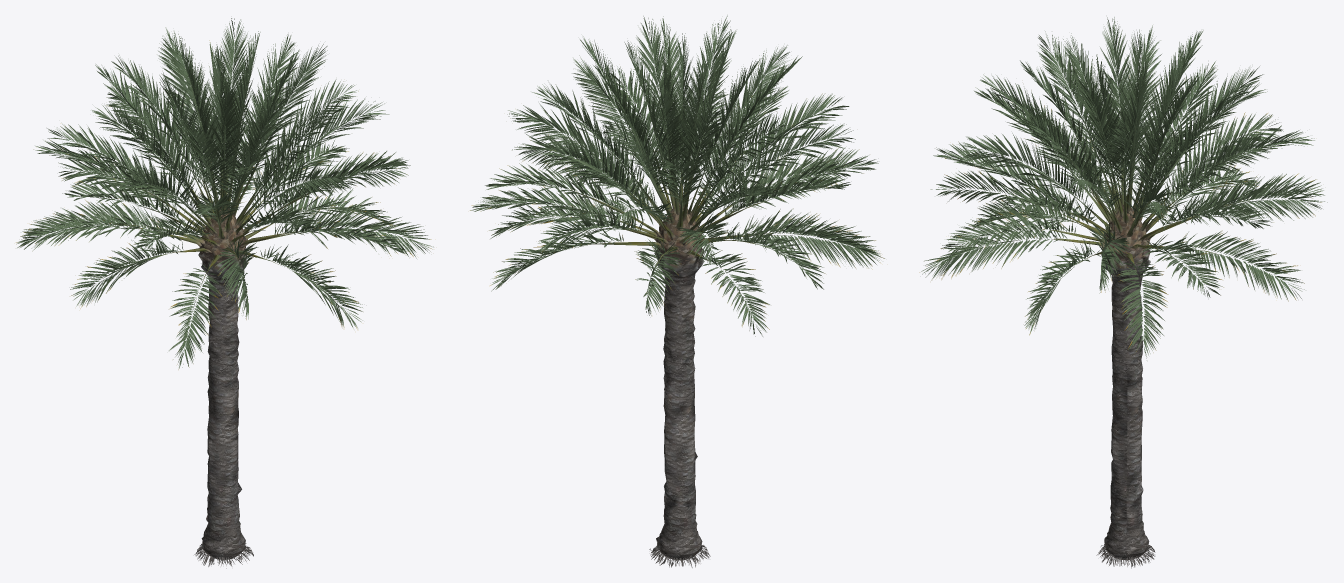
The model's file is palm_queen_b.glb.
3 views of the same model, side by side, from view 1: azimuth 30°, elevation 25°; view 2: azimuth 150°, elevation 25°; view 3: azimuth 270°, elevation 25° (orthographic).
Visible parts, largest first — view 1: Phoenix_dactylifera_HD_Phoenix crown 01_0; view 2: Phoenix_dactylifera_HD_Phoenix crown 01_0; view 3: Phoenix_dactylifera_HD_Phoenix crown 01_0.
Part boxes in pixels (box(x1,y1,x2,y2)): Phoenix_dactylifera_HD_Phoenix crown 01_0: box(16, 18, 433, 568); Phoenix_dactylifera_HD_Phoenix crown 01_0: box(470, 15, 884, 567); Phoenix_dactylifera_HD_Phoenix crown 01_0: box(919, 17, 1327, 568).
Size of the model in its own units: 6.33 by 8.61 by 6.23.
7 materials, 7 textured.
